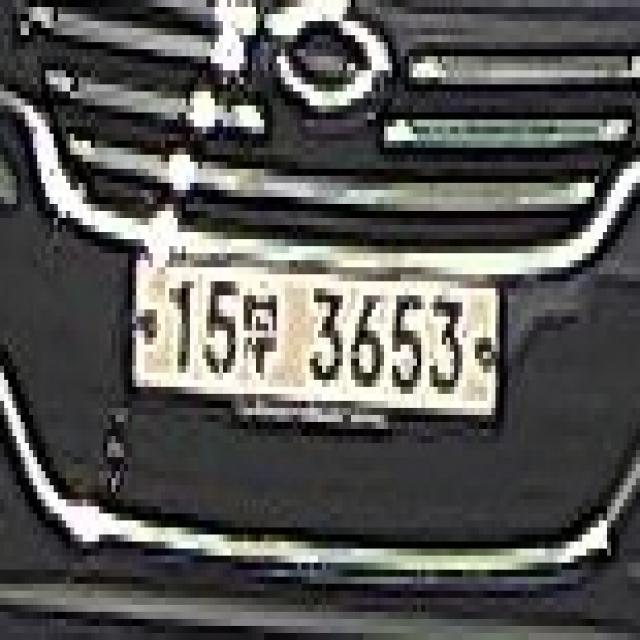1: (161, 267, 198, 387)
3: (305, 274, 347, 401), (429, 288, 471, 415)
5: (198, 274, 244, 387), (388, 288, 430, 408)
6: (347, 281, 388, 408)
bu: (239, 288, 285, 387)
license_plate: (124, 246, 508, 450)
